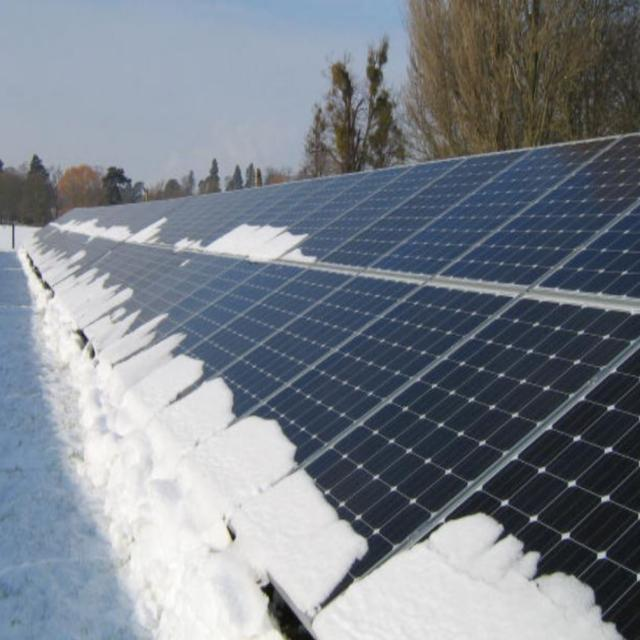snow covered: (35, 145, 637, 636)
